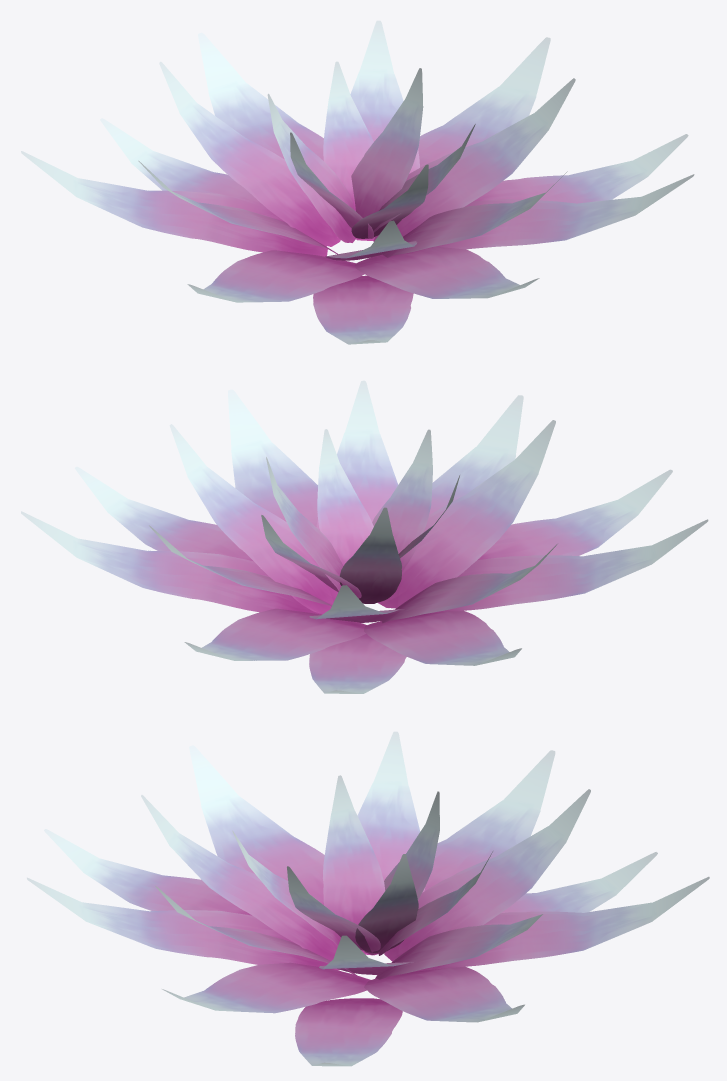
The model's file is lilypad_flower.fbx.
The picture shows the model from 3 angles, top to bottom: view 1: azimuth 30°, elevation 25°; view 2: azimuth 150°, elevation 25°; view 3: azimuth 270°, elevation 25°; orthographic projection.
Parts seen in each view (by area): view 1: flower_01; view 2: flower_01; view 3: flower_01.
Boxes of the visible parts, <box> form: flower_01: <box>21,20,694,344</box>; flower_01: <box>21,380,708,693</box>; flower_01: <box>27,731,709,1066</box>.
Size of the model in its own units: 69.13 by 17.02 by 68.46.
